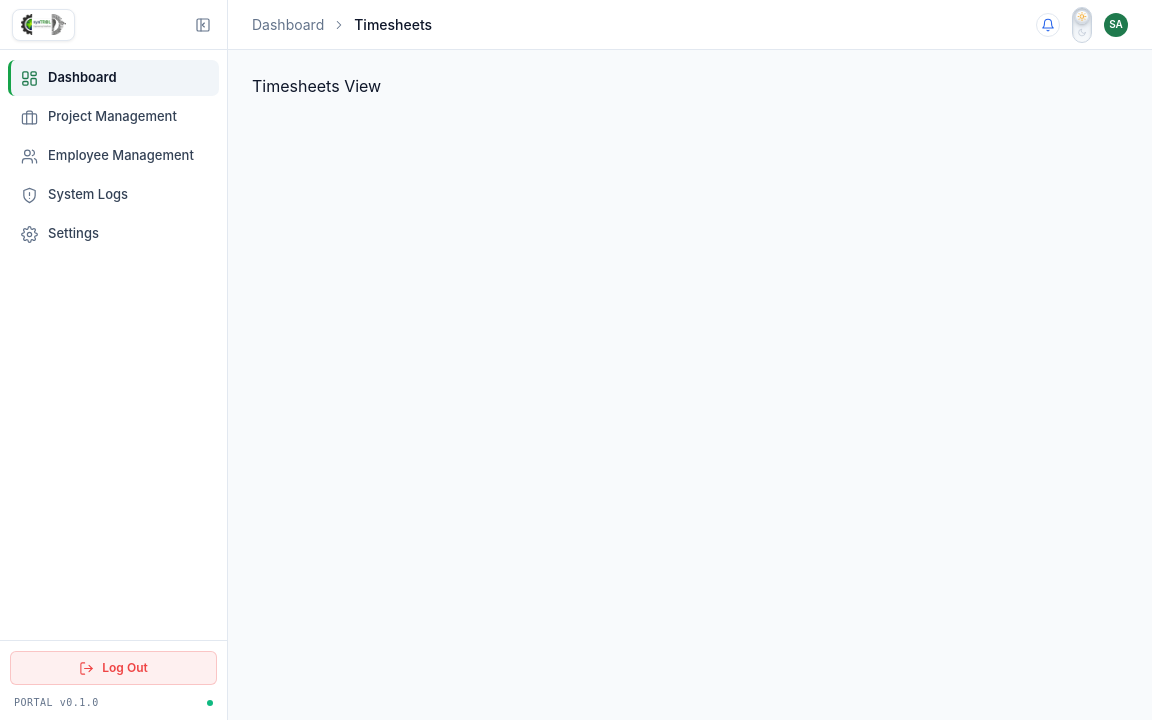
Test: AppShell › shows system telemetry for super admin without change password option
Expected: the button "Employee Management" is shown, [8,138,219,174]
Expected: the button "System Logs" is shown, [8,177,219,213]
Step 1. Click the button with aria-label "User Account Menu" → [1116, 24], box [1104,12,1128,36]
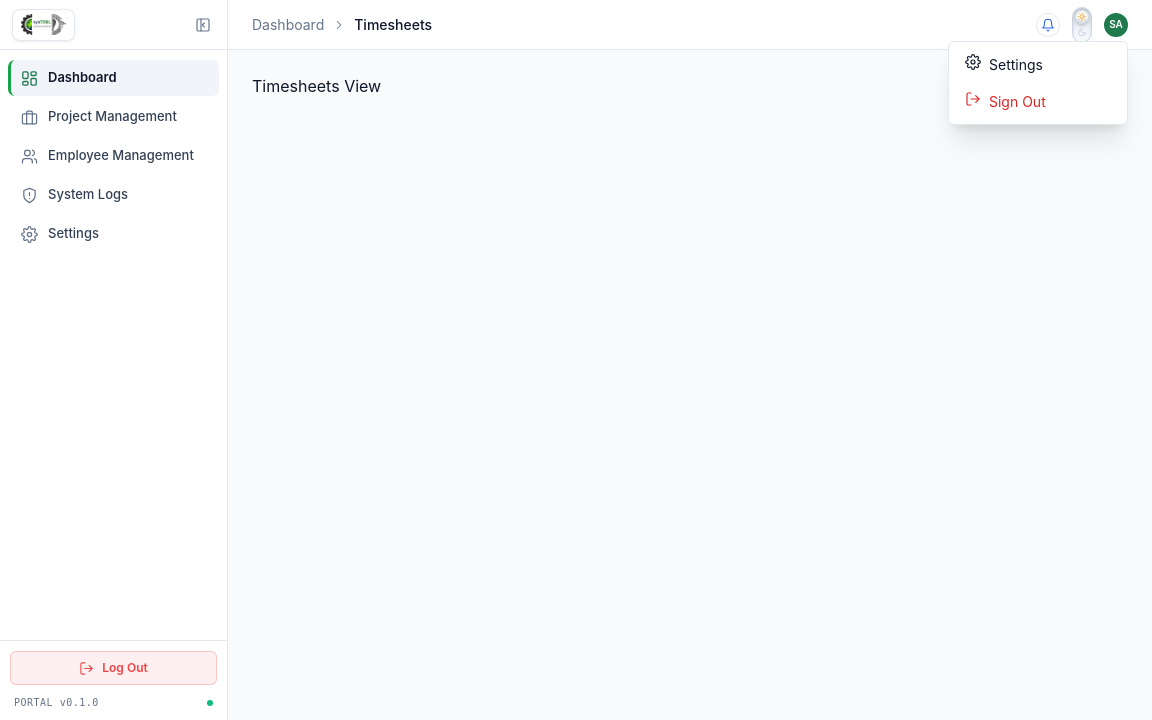
Now the menu item "Sign Out" is shown, box [953,82,1123,120]
